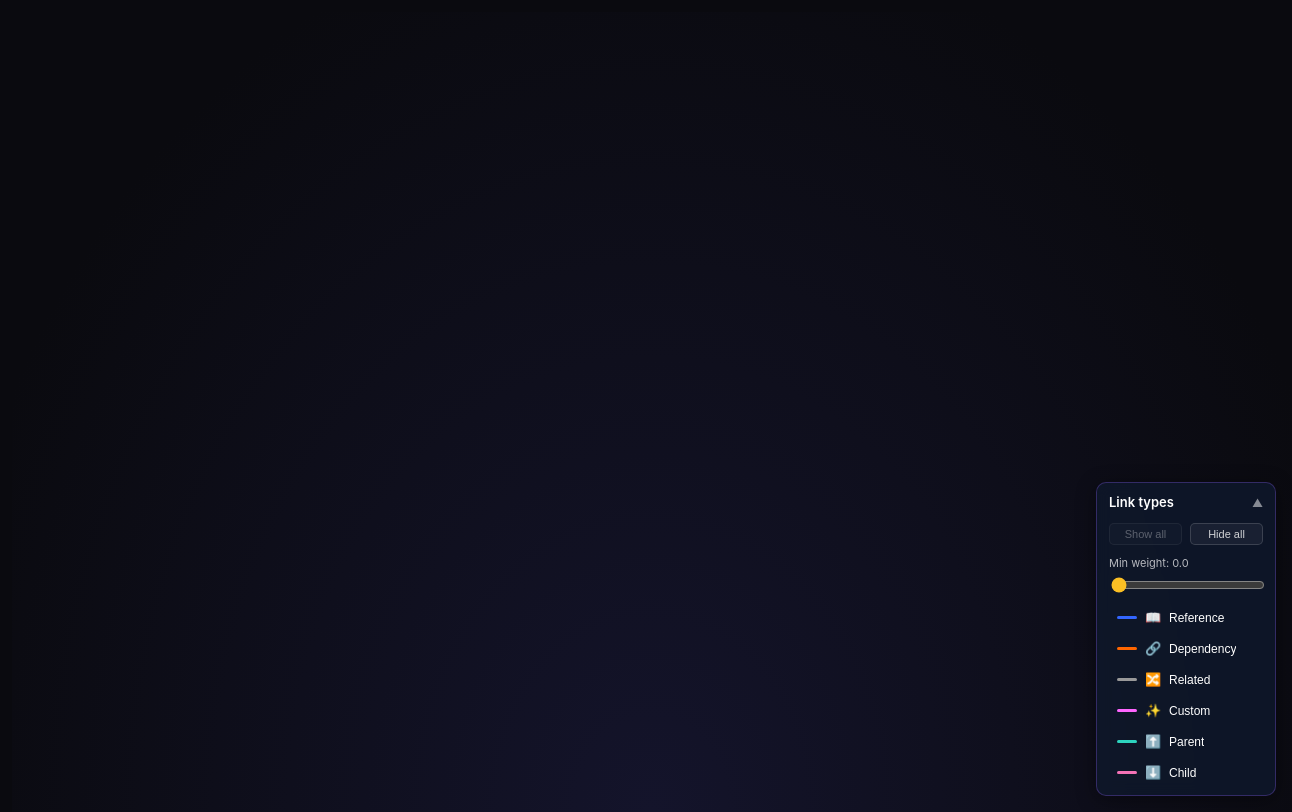
Test: GraphCanvas events › cancels note creation
Press n
(page scrolled)
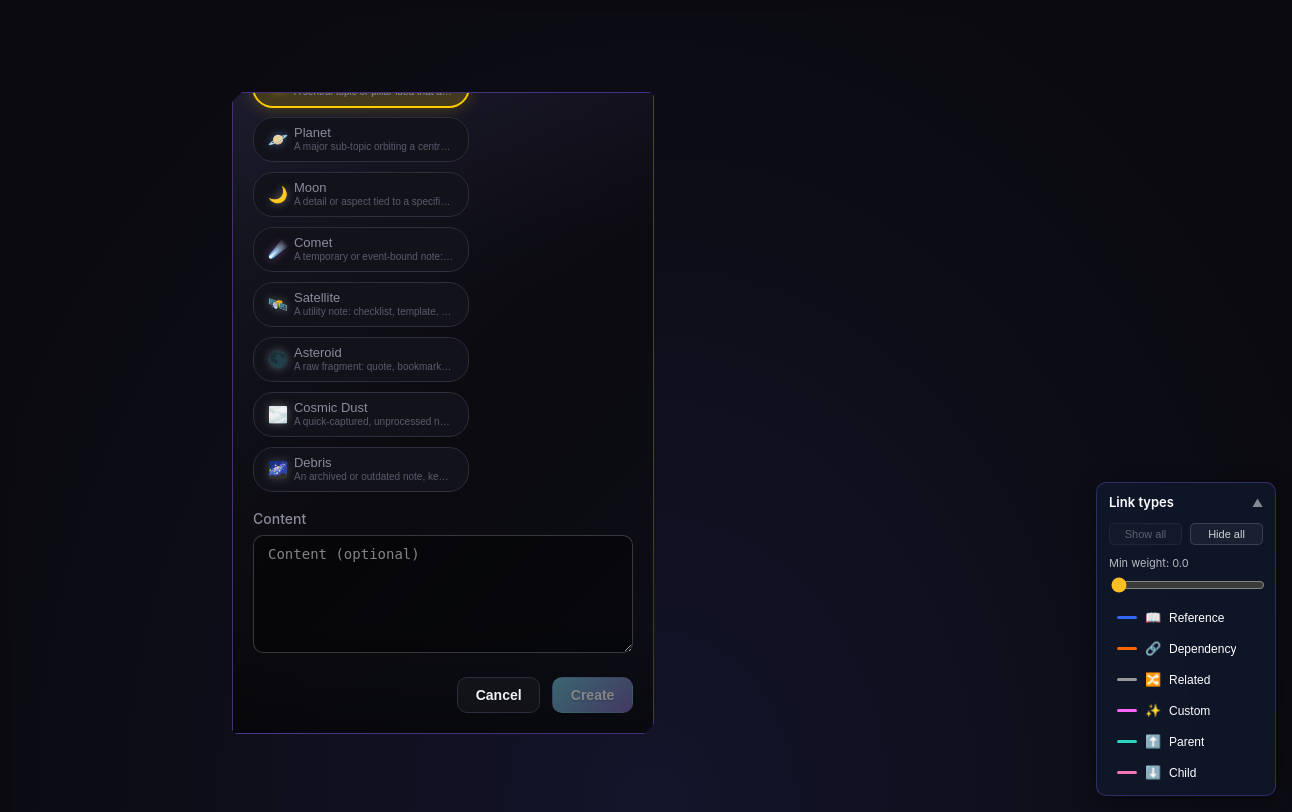
Now the button with test id "ghost-note-cancel" is shown
Click the button with test id "ghost-note-cancel".
click(499, 695)  # box [457, 677, 540, 713]
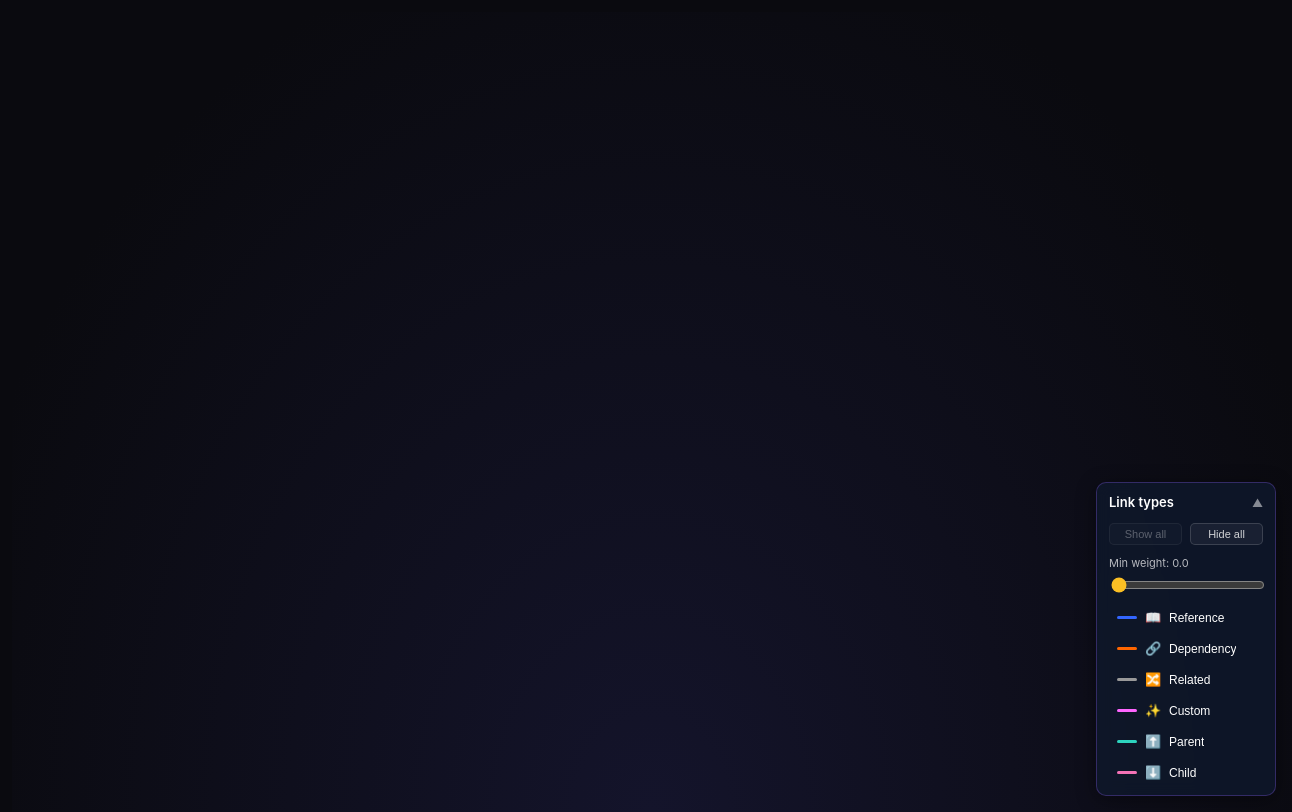
Now the element with test id "ghost-note-form" is gone
